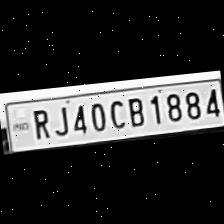0: (86, 98, 108, 132)
1: (144, 90, 164, 125)
4: (68, 100, 90, 135), (200, 83, 222, 118)
8: (162, 88, 184, 123), (180, 86, 202, 119)
B: (124, 92, 146, 128)
C: (106, 95, 127, 130)
J: (50, 100, 71, 136)
R: (27, 104, 52, 140)
